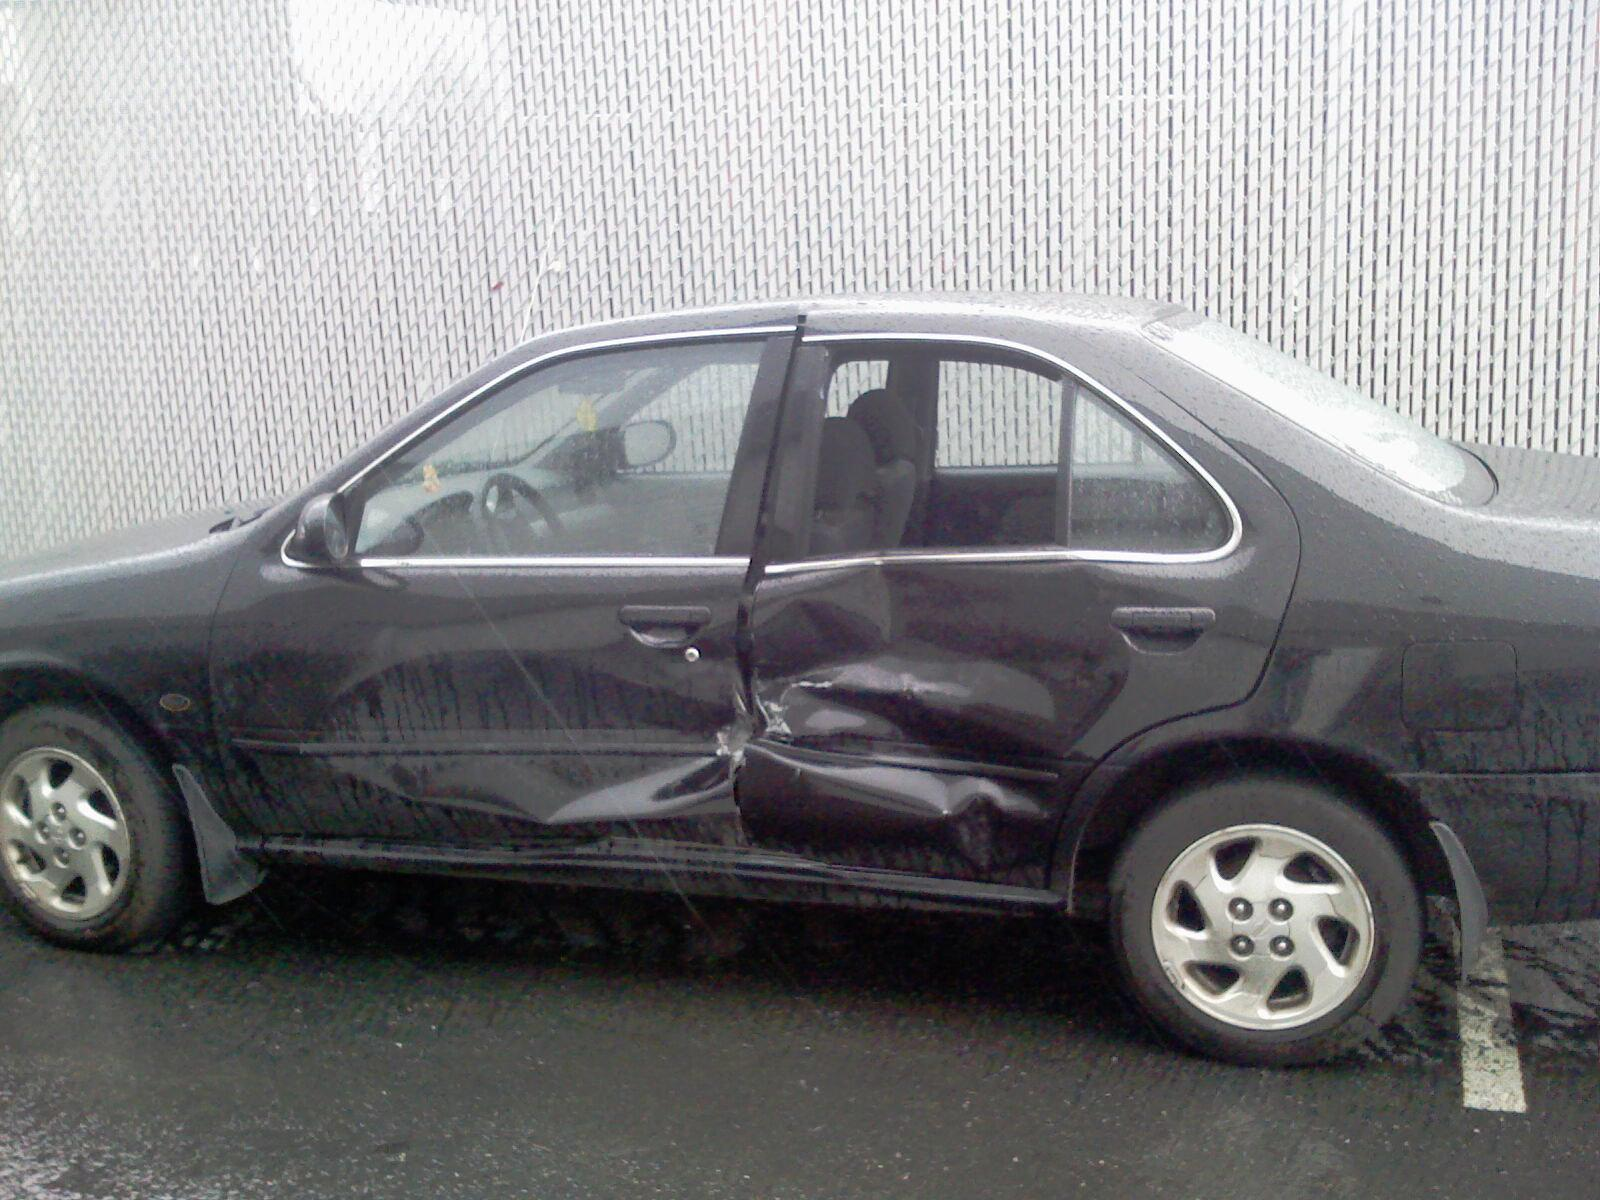doorouter-dent: (220, 584, 743, 868), (738, 580, 1123, 896)
